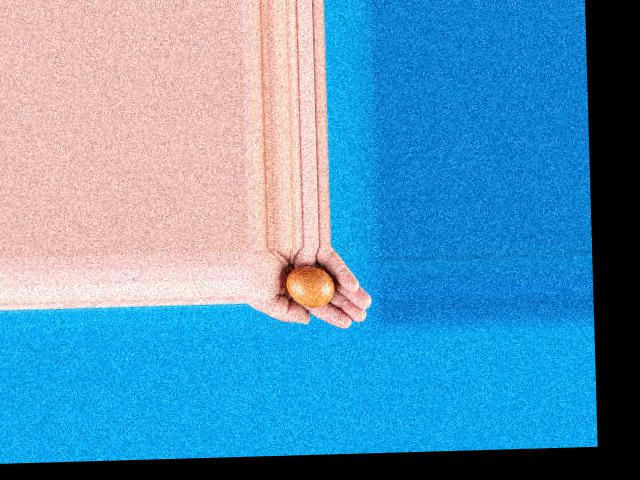egg: (286, 266, 336, 307)
